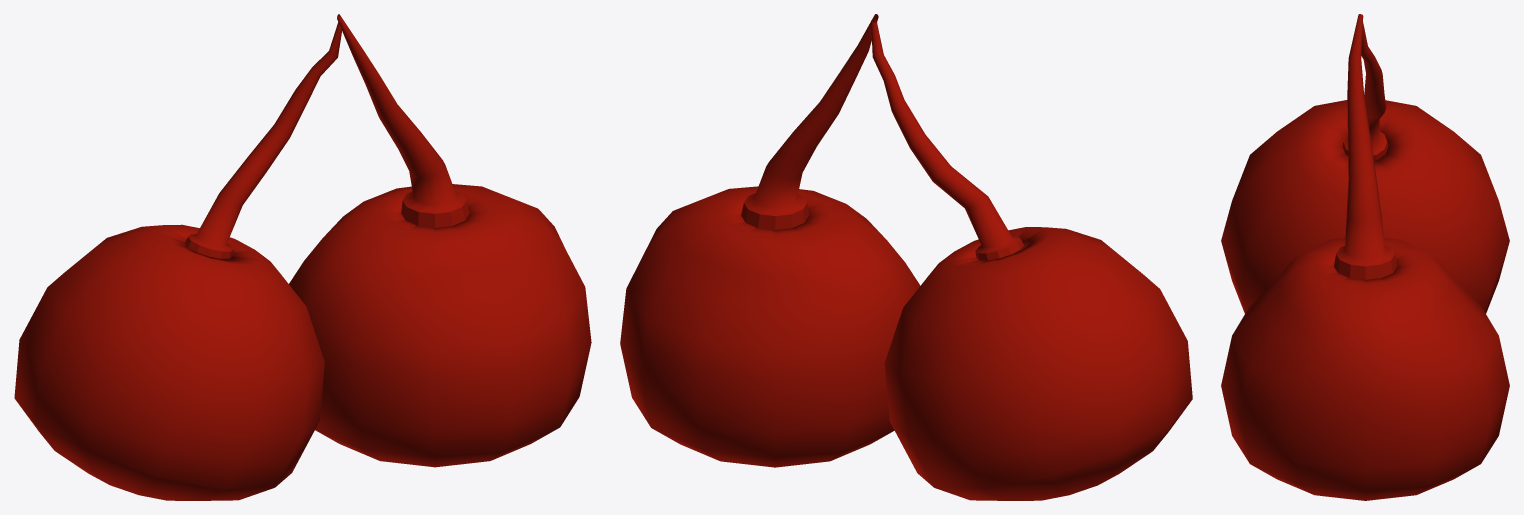
Rendered from Berry.fbx.
The picture shows the model from 3 angles, left to right: view 1: azimuth 30°, elevation 25°; view 2: azimuth 150°, elevation 25°; view 3: azimuth 270°, elevation 25°; orthographic projection. The views are drawn at different scales.
Visible parts, largest first — view 1: Berry_red; view 2: Berry_red; view 3: Berry_red.
Part boxes in pixels (x1=…): Berry_red: x1=14, y1=14, x2=591, y2=500; Berry_red: x1=620, y1=14, x2=1192, y2=500; Berry_red: x1=1221, y1=14, x2=1509, y2=500.
Size of the model in its own units: 3.96 by 3.28 by 2.
